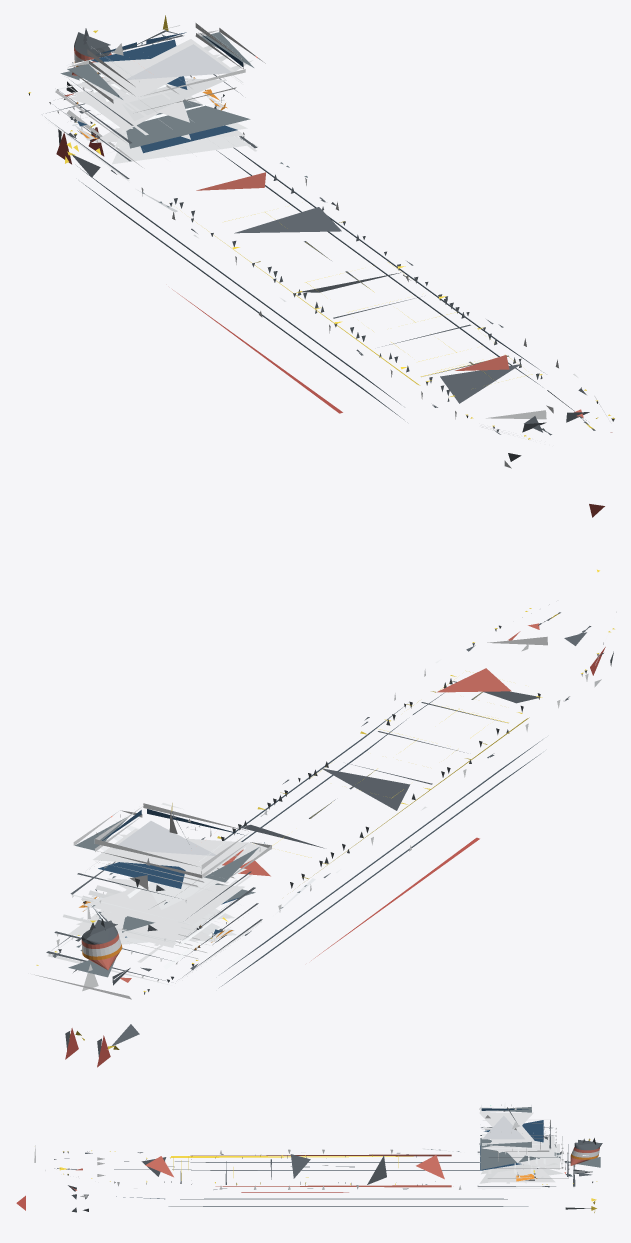
File: ship_29.glb
3 views of the same model, one above another, from view 1: azimuth 30°, elevation 25°; view 2: azimuth 150°, elevation 25°; view 3: azimuth 270°, elevation 25° (orthographic). The views are drawn at different scales.
Visible parts, largest first — view 1: TrueHelm_Ship_29; view 2: TrueHelm_Ship_29; view 3: TrueHelm_Ship_29.
Boxes of the visible parts, <box> form: TrueHelm_Ship_29: <box>28,15,614,517</box>; TrueHelm_Ship_29: <box>34,569,616,1067</box>; TrueHelm_Ship_29: <box>16,1102,602,1212</box>.
Size of the model in its own units: 0.1511 by 0.1917 by 0.9364.
